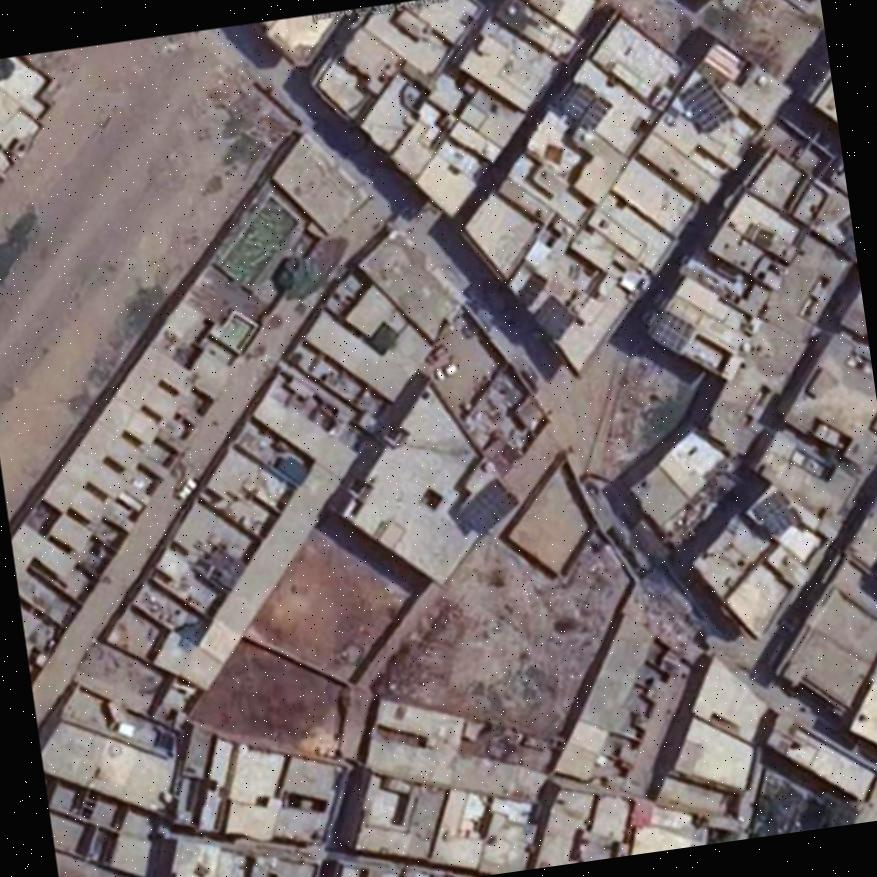Solarpanel: (457, 477, 517, 534), (677, 80, 731, 133), (753, 490, 799, 536), (560, 84, 609, 127), (649, 308, 691, 351)
